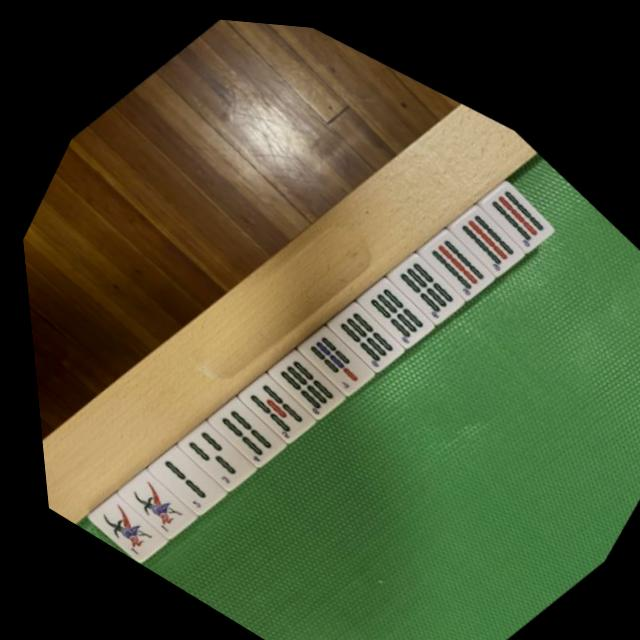sb1: (105, 448, 209, 546), (76, 476, 178, 571)
sb2: (134, 423, 239, 523)
sb3: (166, 399, 271, 499)
sb4: (194, 372, 302, 475)
sb5: (224, 349, 332, 450)
sb6: (312, 274, 420, 376), (372, 225, 480, 326), (341, 250, 449, 351), (253, 325, 360, 425)
sb7: (284, 302, 389, 401)
sb9: (402, 202, 509, 302), (434, 178, 538, 275), (464, 154, 567, 250)
